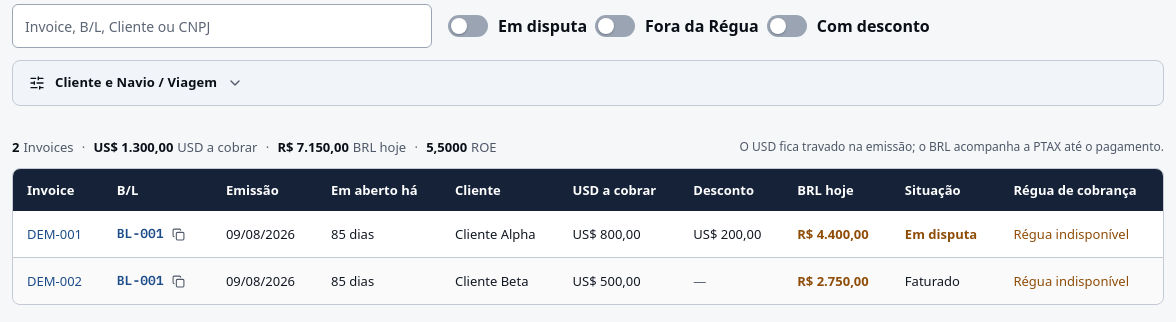
os filtros rápidos reduzem a lista e o resumo junto
The width and height of the screenshot is (1176, 322).
Expected: the number of cells with test id "demurrage-invoice-context" is 2, [13,211,103,258]; [13,258,103,304]
What coordinates should you click on to do the following:
click the switch labelled "Com desconto"
I would click on:
 (848, 26)
Its box is [767,4,930,48].
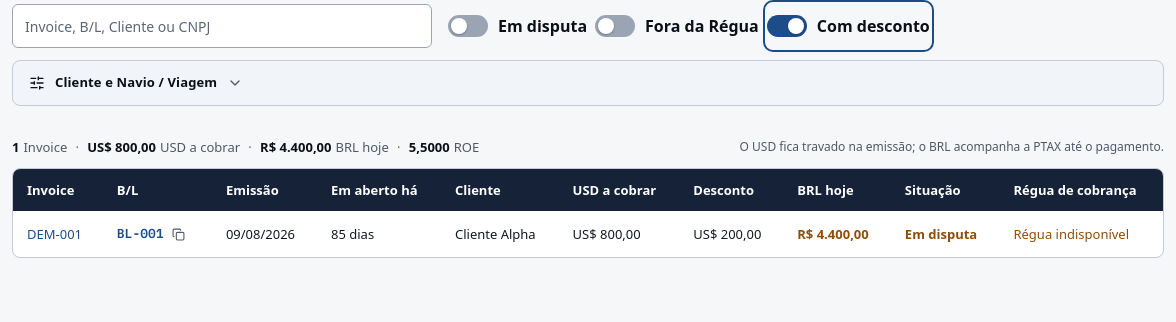
Expected: the number of cells with test id "demurrage-invoice-context" is 1, [13,211,103,257]
Expected: the element named "Resumo das Invoices" shows "800,00", [87,138,156,156]
Expected: the text labelled "Resumo das Invoices" no longer shows "1.300,00"
What coordinates should you click on to do the following:
click the switch labelled "Com desconto"
I would click on:
 (848, 26)
Its box is [767,4,930,48].
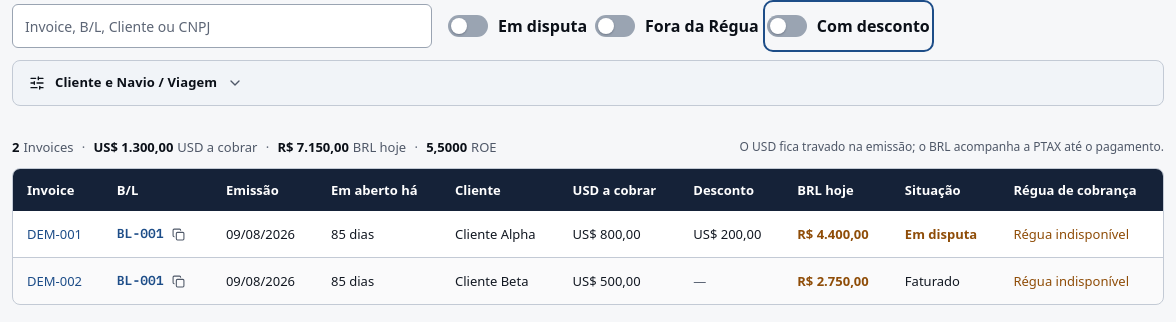
What coordinates should you click on to do the following:
click the switch labelled "Fora da Régua"
I would click on:
 (677, 26)
Its box is [595,4,759,48].
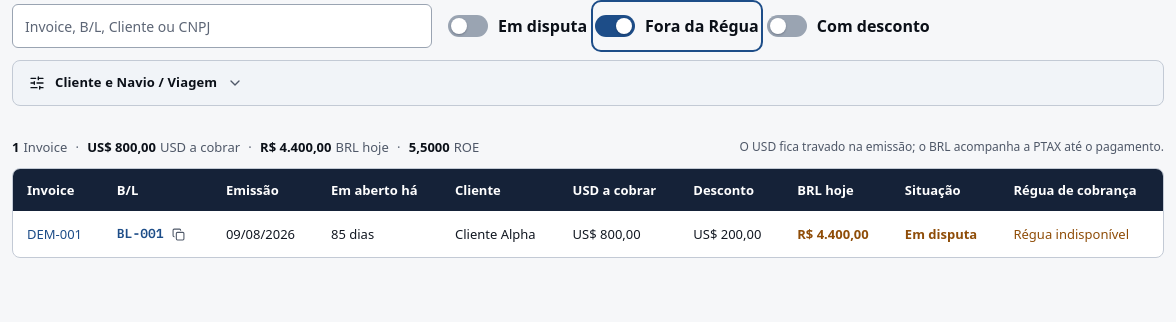
Expected: the button "DEM-001" is shown, [27,225,82,243]
Expected: the number of cells with test id "demurrage-invoice-context" is 1, [13,211,103,257]
